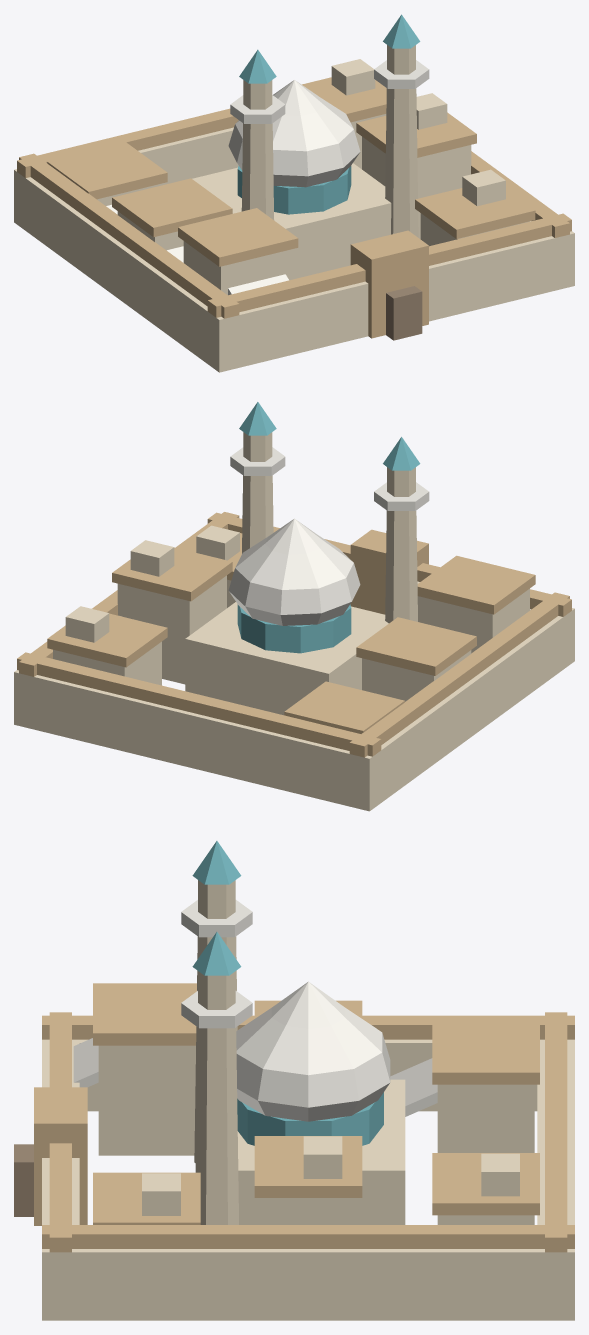
File: city.glb
3 views of the same model, one above another, from view 1: azimuth 30°, elevation 25°; view 2: azimuth 150°, elevation 25°; view 3: azimuth 270°, elevation 25° (orthographic). The views are drawn at different scales.
Parts seen in each view (by area): view 1: desert_city; view 2: desert_city; view 3: desert_city.
Part boxes in pixels (x1=…): desert_city: x1=14, y1=14, x2=574, y2=372; desert_city: x1=14, y1=402, x2=574, y2=811; desert_city: x1=14, y1=841, x2=574, y2=1320.
Bounding box in the file's own units: 0.9501 × 0.6334 × 1.
